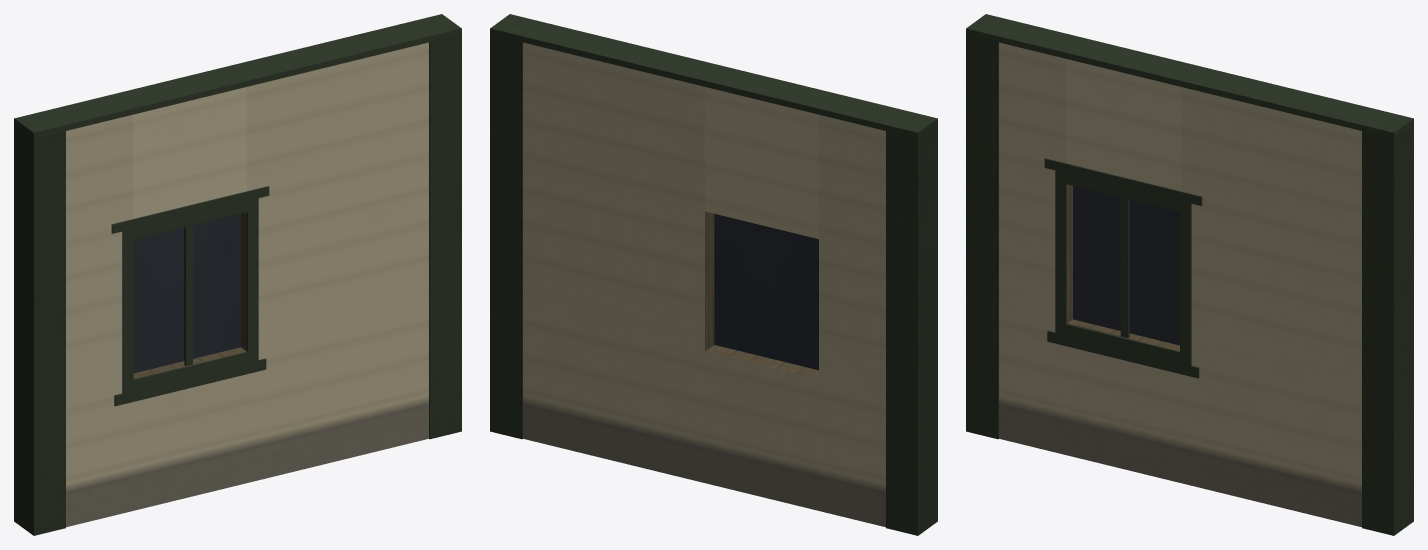
File: house_01_wall_window.glb
3 renders of one model, left to right at view 1: azimuth 30°, elevation 25°; view 2: azimuth 150°, elevation 25°; view 3: azimuth 330°, elevation 25°, orthographic.
Visible parts, largest first — view 1: outdoor_house_01_wall_window; view 2: outdoor_house_01_wall_window; view 3: outdoor_house_01_wall_window.
Boxes of the visible parts, x1=… form: outdoor_house_01_wall_window: x1=14, y1=14, x2=461, y2=535; outdoor_house_01_wall_window: x1=490, y1=14, x2=937, y2=535; outdoor_house_01_wall_window: x1=966, y1=14, x2=1413, y2=535.
Size of the model in its own units: 3 by 2.7 by 0.24.
Materials: 1 (1 with a texture image).
